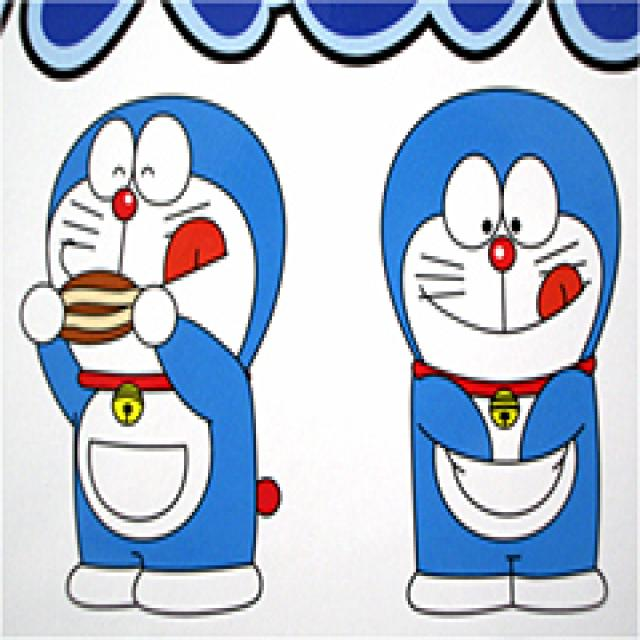doraemon: (29, 85, 299, 412), (363, 75, 616, 405)
